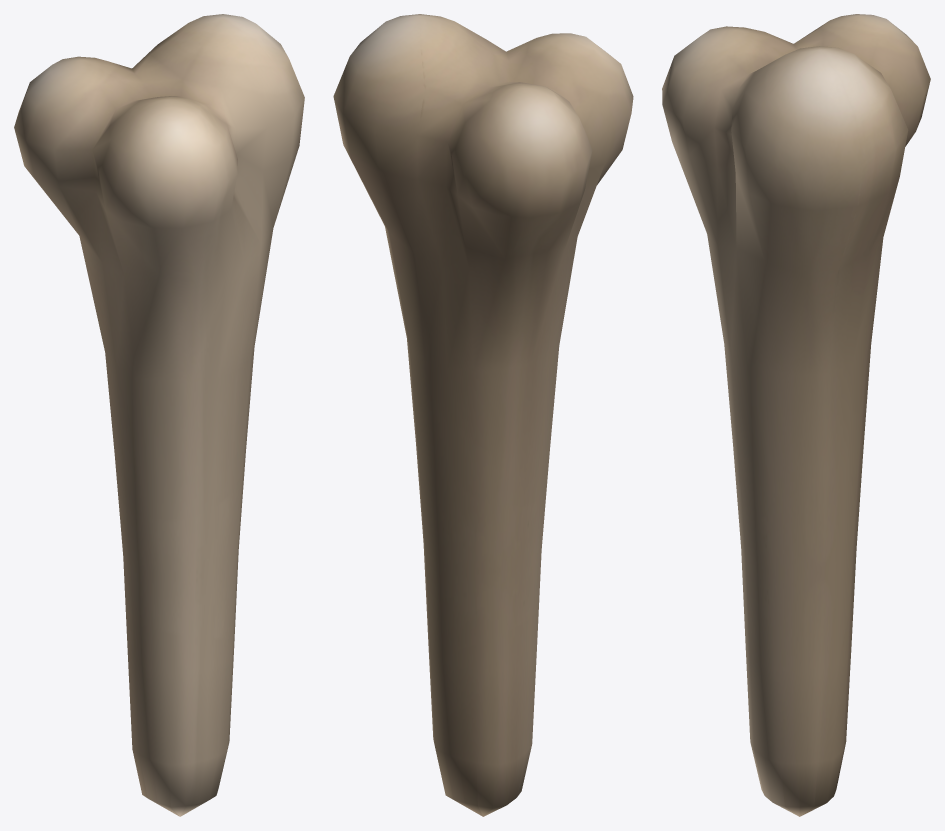
File: DE_Bone_04.fbx
3 views of the same model, side by side, from view 1: azimuth 30°, elevation 25°; view 2: azimuth 150°, elevation 25°; view 3: azimuth 270°, elevation 25° (orthographic). The views are drawn at different scales.
Visible parts, largest first — view 1: DE_Bone_04; view 2: DE_Bone_04; view 3: DE_Bone_04.
Boxes of the visible parts, box(x1,y1,x2,y2) form: DE_Bone_04: box(14, 14, 304, 816); DE_Bone_04: box(333, 14, 633, 816); DE_Bone_04: box(662, 14, 930, 816).
Size of the model in its own units: 0.4587 by 1.36 by 0.4177.
